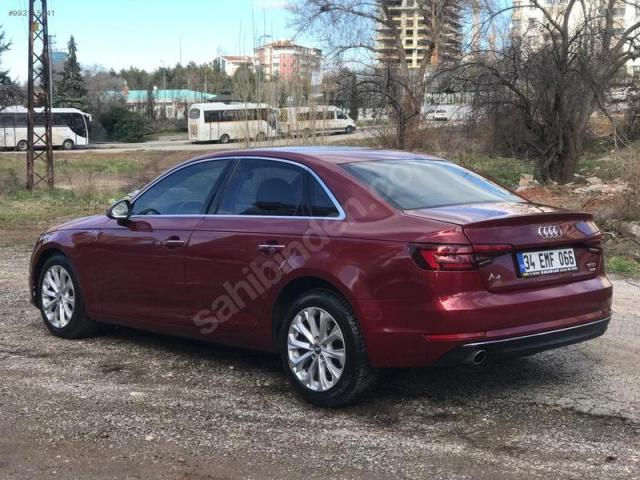plaka: (518, 247, 577, 277)
